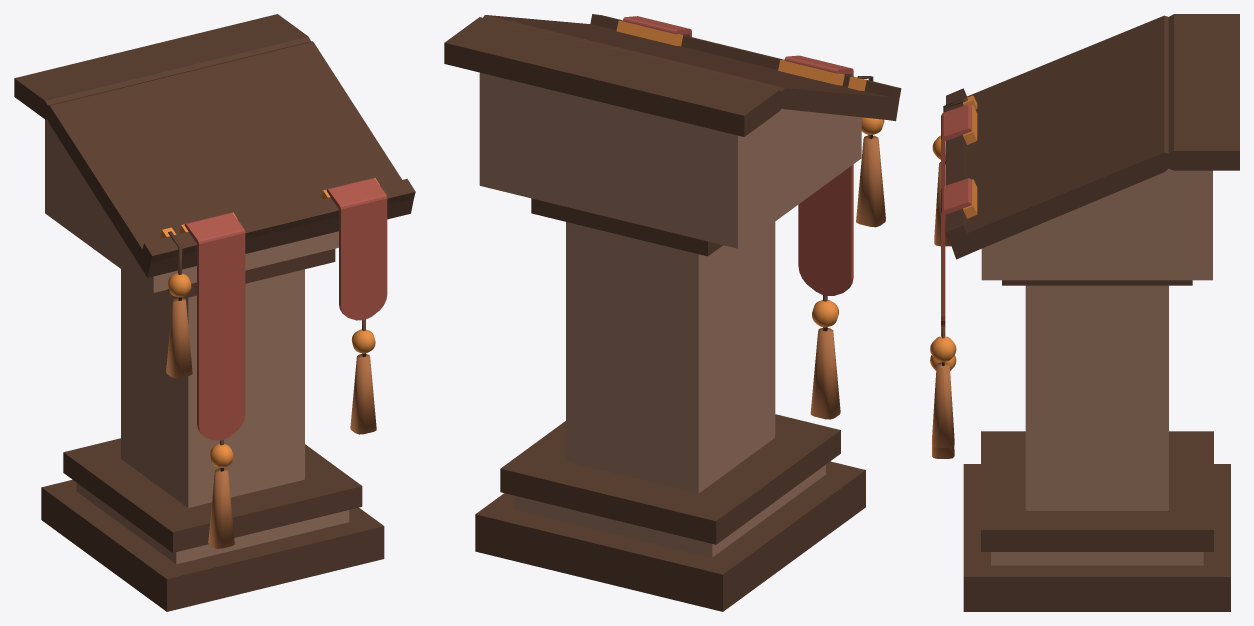
The model's file is fbx_Lectern_Stone_01.fbx.
3 views of the same model, side by side, from view 1: azimuth 30°, elevation 25°; view 2: azimuth 150°, elevation 25°; view 3: azimuth 270°, elevation 25° (orthographic). The views are drawn at different scales.
Visible parts, largest first — view 1: Cube; view 2: Cube; view 3: Cube.
Boxes of the visible parts, left/top/right/bottom form: Cube: left=14, top=14, right=415, bottom=611; Cube: left=444, top=14, right=901, bottom=611; Cube: left=930, top=14, right=1239, bottom=611.
Bounding box in the file's own units: 74.95 × 121 × 71.71.
